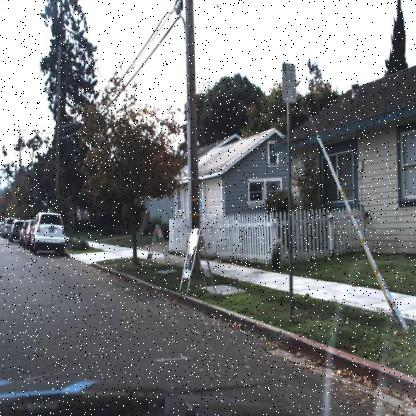car: (27, 207, 68, 258)
